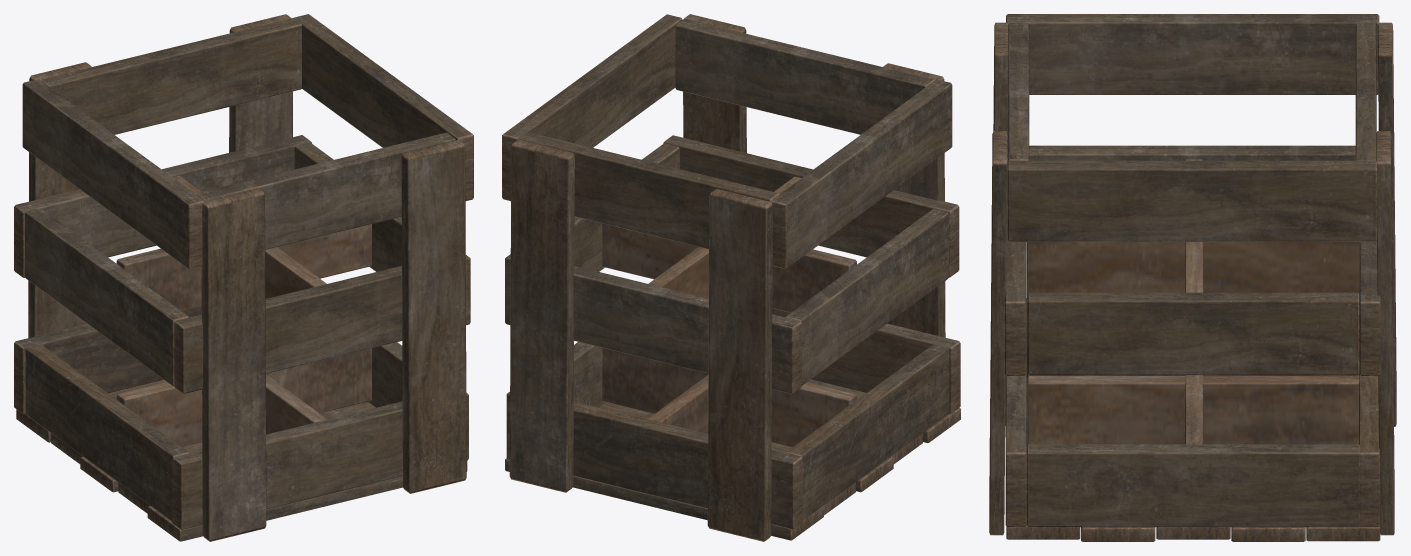
File: SM_BottleHolder_A.fbx
3 renders of one model, left to right at view 1: azimuth 30°, elevation 25°; view 2: azimuth 150°, elevation 25°; view 3: azimuth 270°, elevation 25°, orthographic. The views are drawn at different scales.
Parts seen in each view (by area): view 1: SM_BottleHolder_A_LOD0; view 2: SM_BottleHolder_A_LOD0; view 3: SM_BottleHolder_A_LOD0.
Boxes of the visible parts, <box> form: SM_BottleHolder_A_LOD0: <box>14,14,473,541</box>; SM_BottleHolder_A_LOD0: <box>502,14,960,541</box>; SM_BottleHolder_A_LOD0: <box>989,14,1396,541</box>.
Bounding box in the file's own units: 33.3 × 35.65 × 36.25.
Materials: 1 (1 with a texture image).
